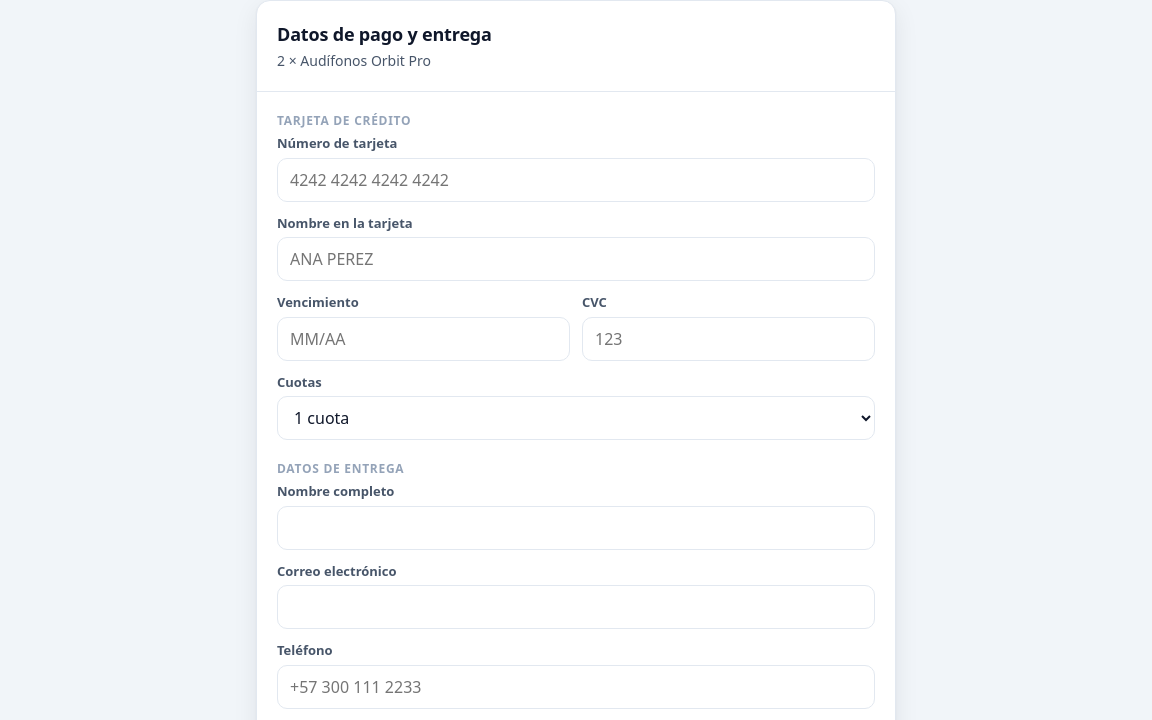
Scenario: CheckoutPage › shows the Mastercard logo for a Mastercard number
Type "5555" into the field labelled "Número de tarjeta" at (576,180), box [277, 158, 875, 202]
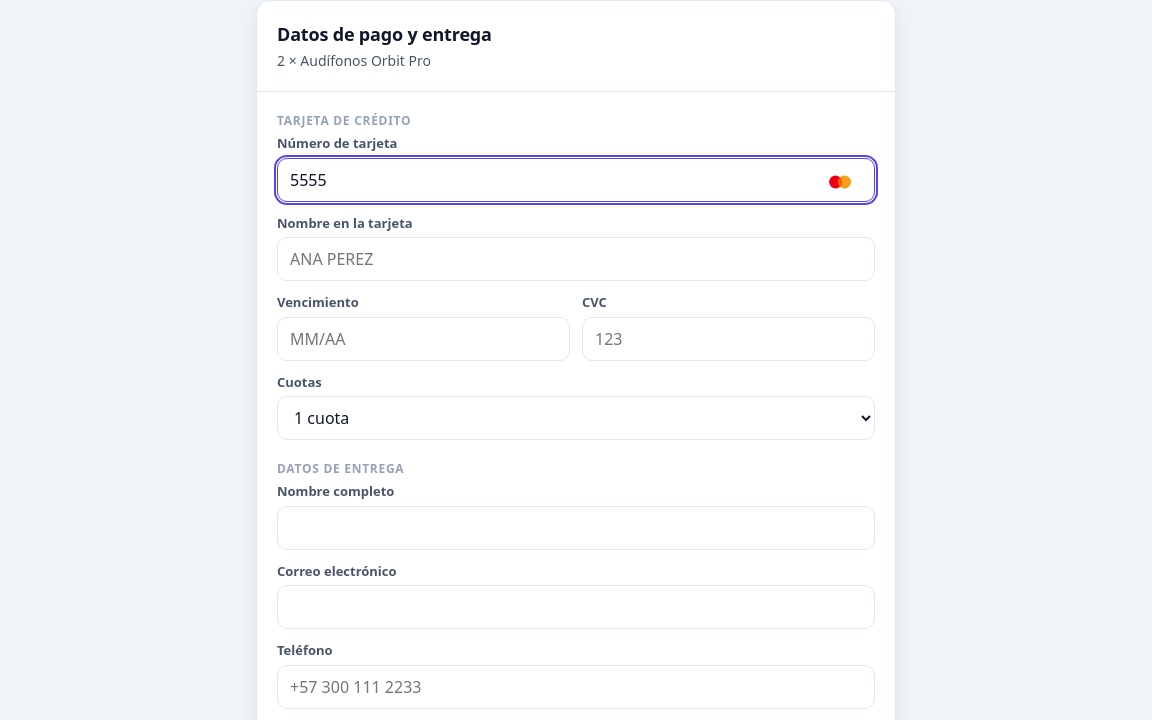
Now the picture with test id "brand-mastercard" is shown, box [819, 174, 863, 190]
